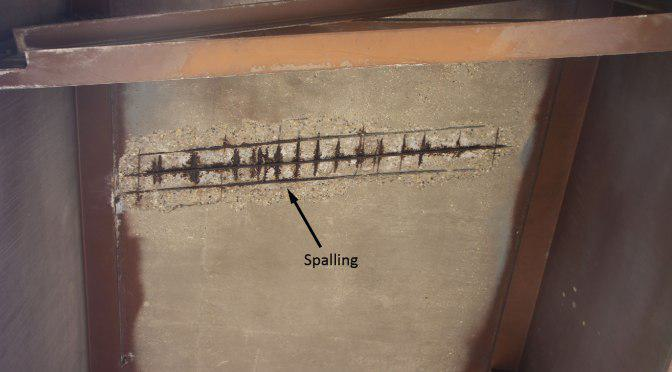Exposed reinforcement: (124, 142, 508, 178), (137, 124, 486, 157), (119, 167, 476, 197), (186, 151, 201, 184), (354, 136, 366, 174), (134, 148, 142, 204), (372, 138, 385, 172), (273, 144, 284, 179), (230, 148, 241, 182), (151, 154, 163, 185), (491, 126, 500, 167), (398, 133, 407, 171), (417, 132, 426, 169), (332, 138, 341, 174), (293, 139, 301, 178), (313, 140, 321, 176), (248, 147, 257, 178), (452, 130, 461, 159), (262, 148, 269, 181), (257, 146, 262, 179)
Spalling: (114, 113, 524, 213)
